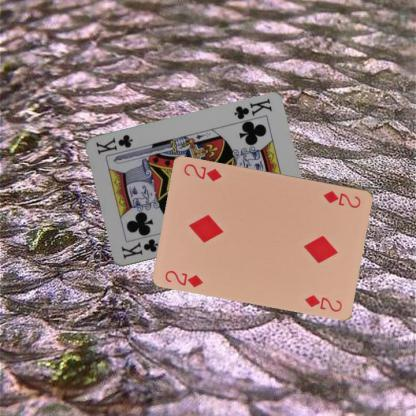2d: (321, 188, 362, 209), (162, 268, 204, 288)
Kc: (231, 96, 273, 122), (118, 236, 159, 261)
